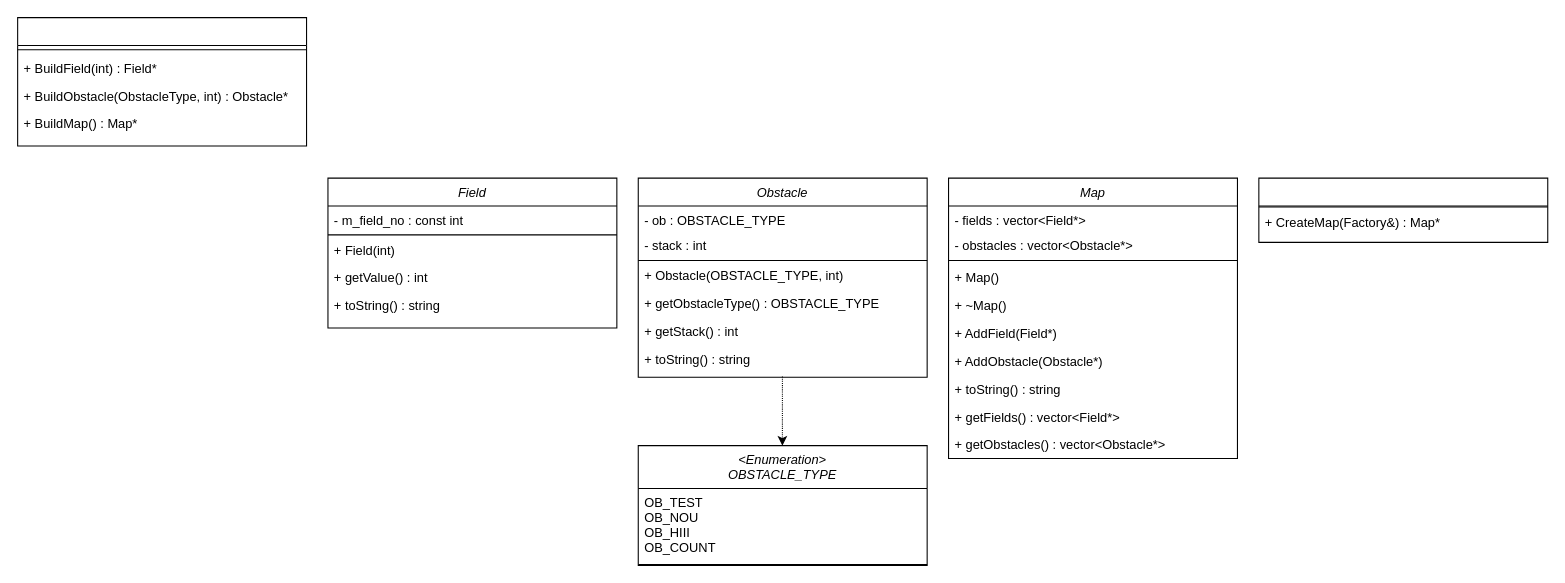
Image size: 1565x583. Some labels were removed from this diagram. Here are the shapes that lost their labels. From the top down, the box of each, then its label:
(17, 17, 307, 146): Factory
(1258, 177, 1548, 242): MergeMap
